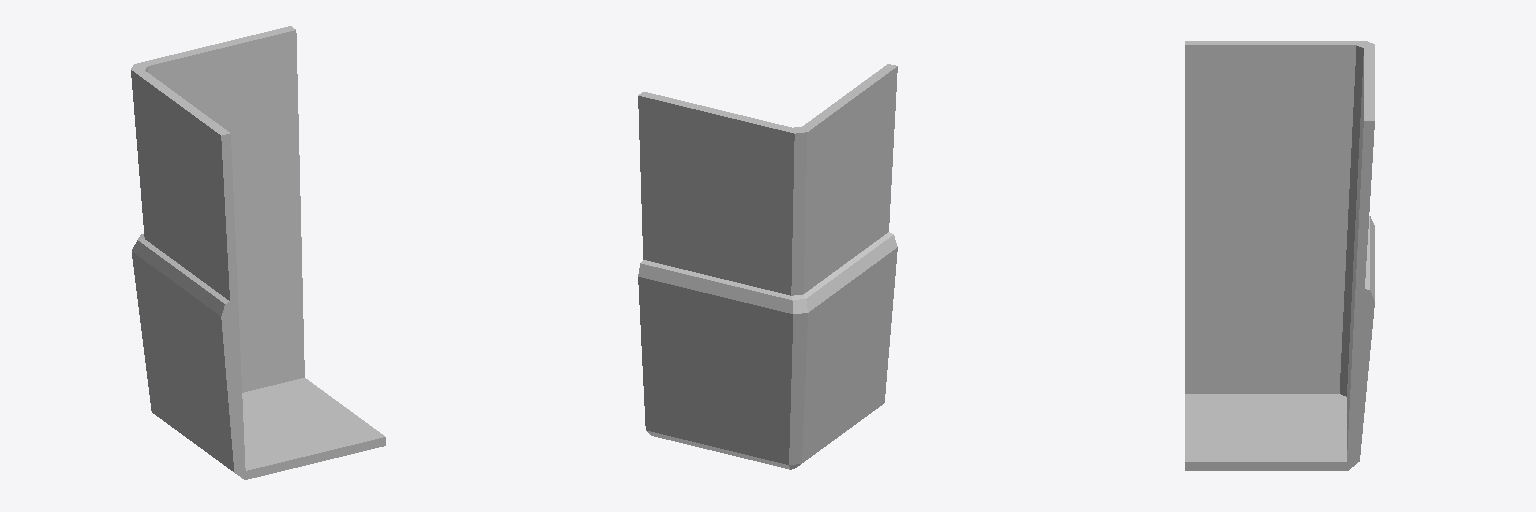
The model's file is base_building_top_left_corner_tile.obj.
3 views of the same model, side by side, from view 1: azimuth 30°, elevation 25°; view 2: azimuth 150°, elevation 25°; view 3: azimuth 270°, elevation 25° (orthographic).
Visible parts, largest first — view 1: top_left_corner_tile_Cube.002; view 2: top_left_corner_tile_Cube.002; view 3: top_left_corner_tile_Cube.002.
Part boxes in pixels (x1,y1,x2,y2): top_left_corner_tile_Cube.002: (131,26,385,479); top_left_corner_tile_Cube.002: (638,64,897,469); top_left_corner_tile_Cube.002: (1185,41,1374,470).
Bounding box in the file's own units: 1.97 × 4 × 1.97.